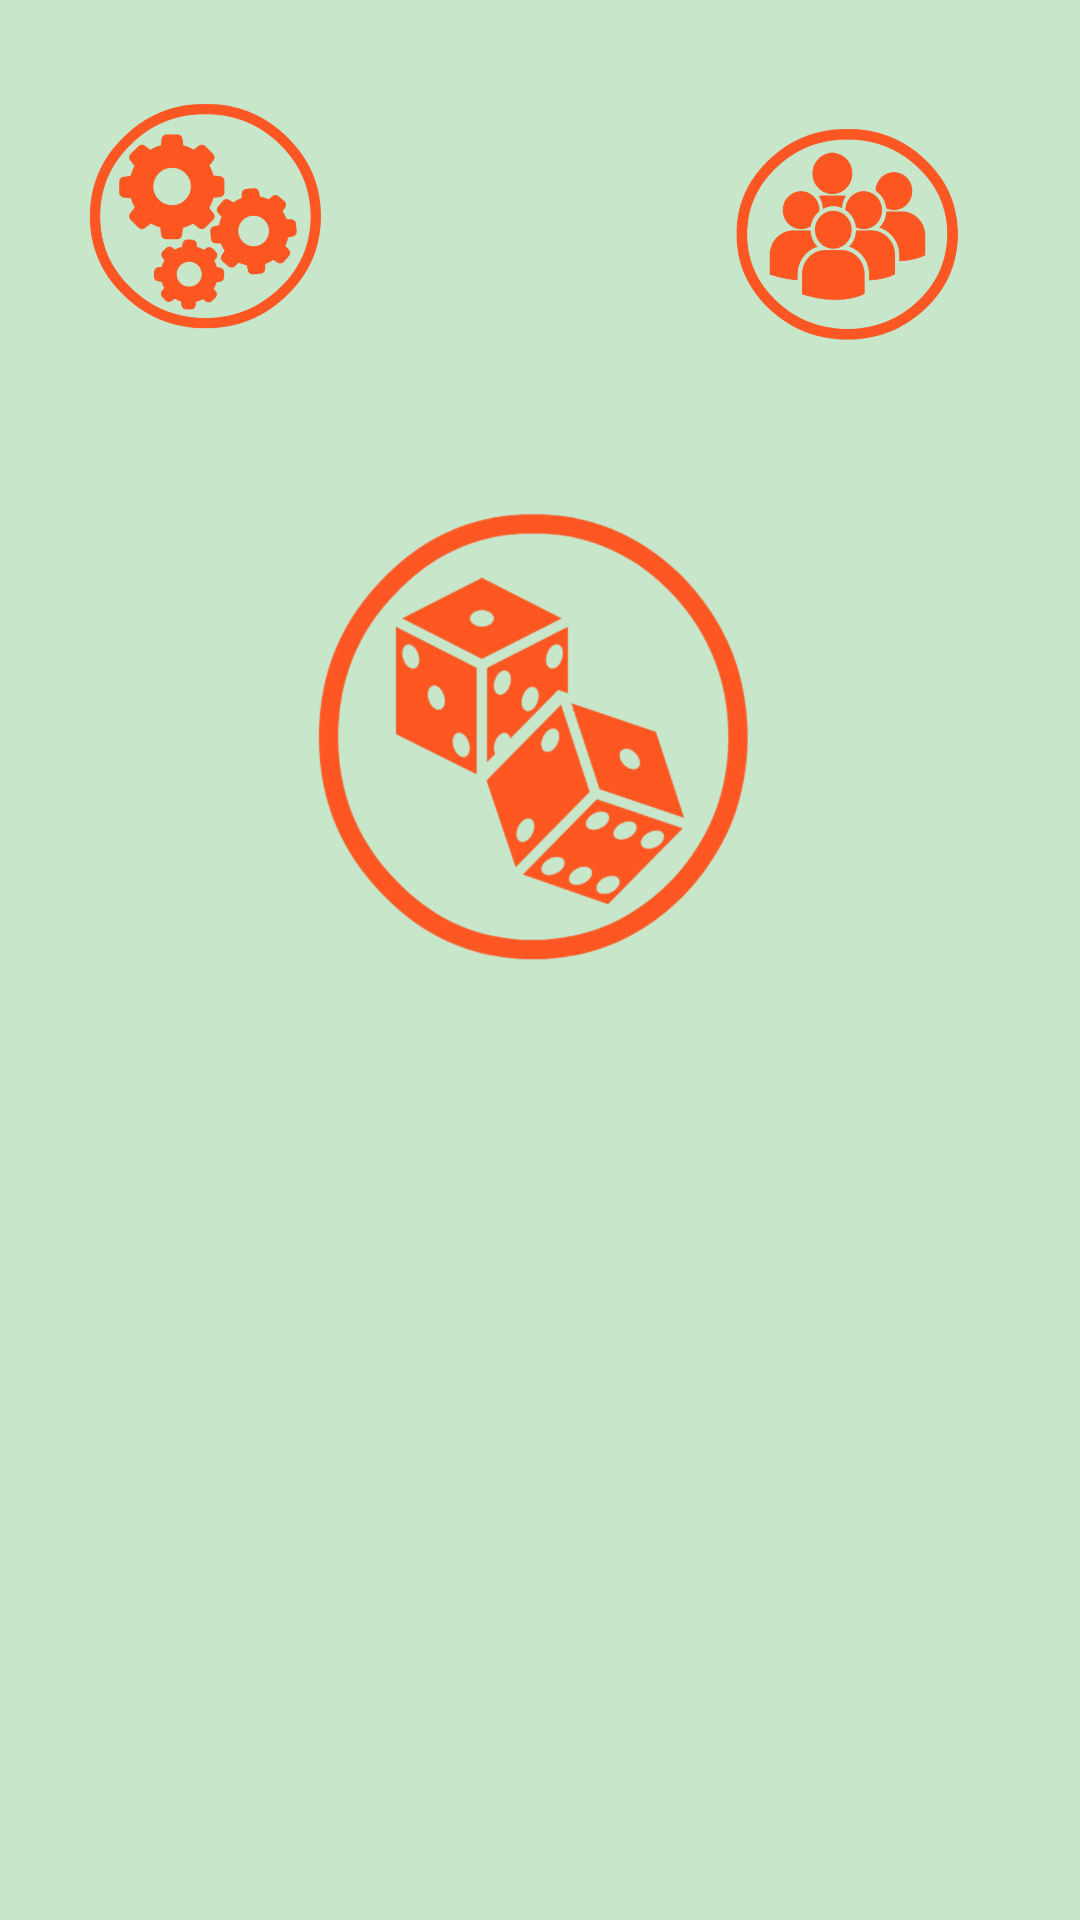

Named icons in this screenshot (1080 × 1920) and their centers, (x=x, y=y):
settings: (x=205, y=216)
users: (x=847, y=234)
